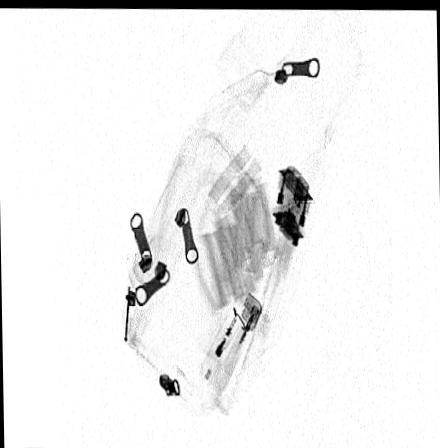Lighter: (197, 285, 262, 393)
